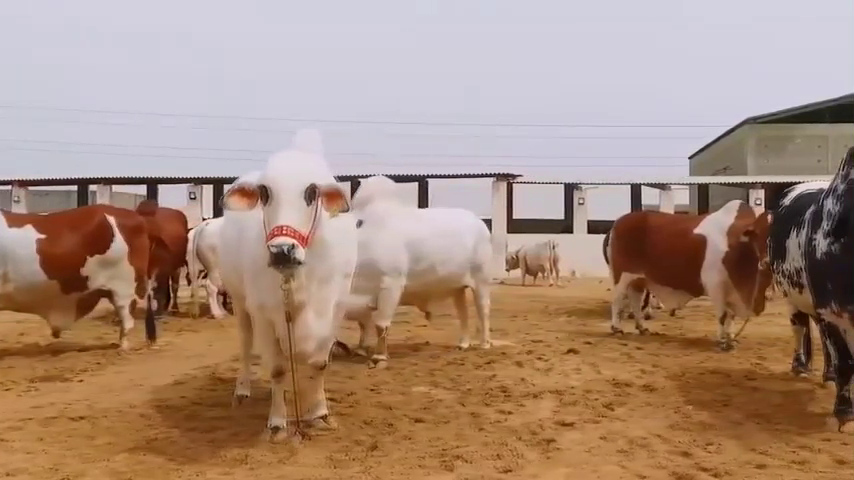bo: (220, 123, 361, 453), (335, 167, 502, 367), (598, 197, 782, 362), (2, 199, 155, 361), (774, 136, 854, 435), (131, 181, 185, 323), (493, 219, 568, 304), (185, 202, 226, 313)
